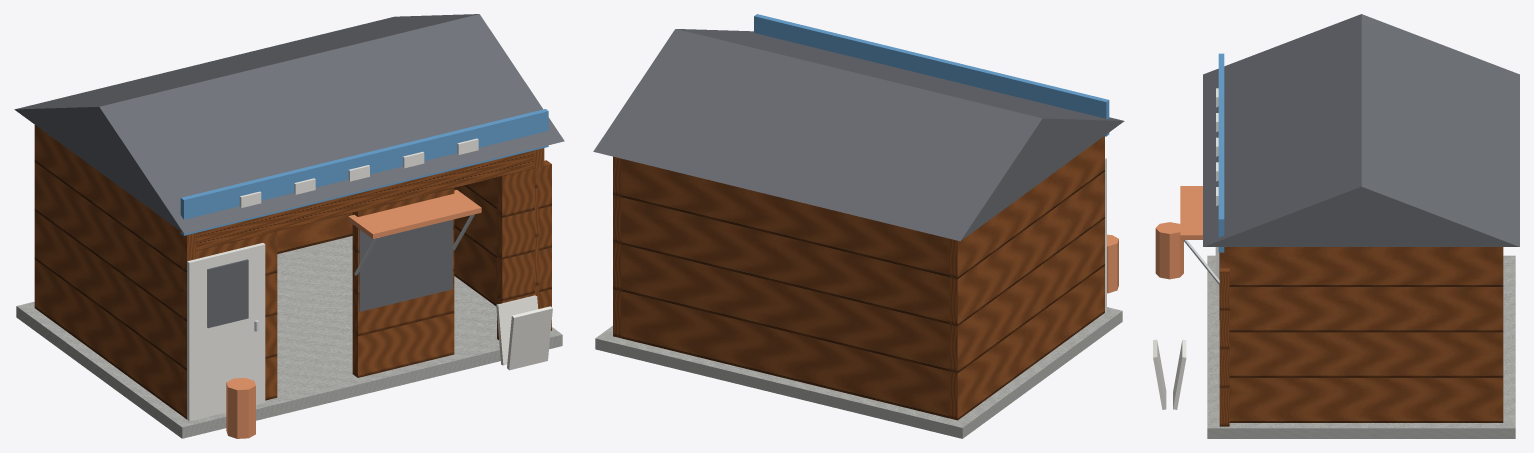
The model's file is caravan-park-and-campsite-site-shop-and-reception-3f28f019__35373.glb.
3 renders of one model, left to right at view 1: azimuth 30°, elevation 25°; view 2: azimuth 150°, elevation 25°; view 3: azimuth 270°, elevation 25°, orthographic. The views are drawn at different scales.
Visible parts, largest first — view 1: site-shop-and-reception-charcoal, site-shop-and-reception-timber, site-shop-and-reception-hard, door/shell, site-shop-and-reception-azure, site-shop-and-reception-shell, site-shop-and-reception-flame, door/charcoal; view 2: site-shop-and-reception-timber, site-shop-and-reception-charcoal, site-shop-and-reception-hard, site-shop-and-reception-azure, site-shop-and-reception-flame; view 3: site-shop-and-reception-charcoal, site-shop-and-reception-timber, site-shop-and-reception-hard, site-shop-and-reception-flame, site-shop-and-reception-azure, site-shop-and-reception-shell.
Part boxes in pixels (box(x1,y1,x2,y2)): site-shop-and-reception-charcoal: box(14, 14, 564, 311); site-shop-and-reception-timber: box(34, 125, 551, 419); site-shop-and-reception-hard: box(16, 236, 562, 438); door/shell: box(187, 243, 265, 421); site-shop-and-reception-azure: box(180, 109, 548, 235); site-shop-and-reception-shell: box(239, 138, 552, 370); site-shop-and-reception-flame: box(226, 190, 481, 438); door/charcoal: box(207, 259, 248, 328); site-shop-and-reception-timber: box(613, 136, 1104, 420); site-shop-and-reception-charcoal: box(593, 29, 1124, 241); site-shop-and-reception-hard: box(595, 307, 1122, 438); site-shop-and-reception-azure: box(754, 14, 1109, 136); site-shop-and-reception-flame: box(1107, 234, 1118, 293); site-shop-and-reception-charcoal: box(1203, 14, 1519, 319); site-shop-and-reception-timber: box(1219, 247, 1503, 426); site-shop-and-reception-hard: box(1207, 255, 1515, 438); site-shop-and-reception-flame: box(1155, 186, 1202, 279); site-shop-and-reception-azure: box(1218, 53, 1224, 252); site-shop-and-reception-shell: box(1153, 88, 1218, 409).
Bounding box in the file's own units: 4.9 × 3.34 × 4.4.
Materials: 7 (2 with a texture image).
